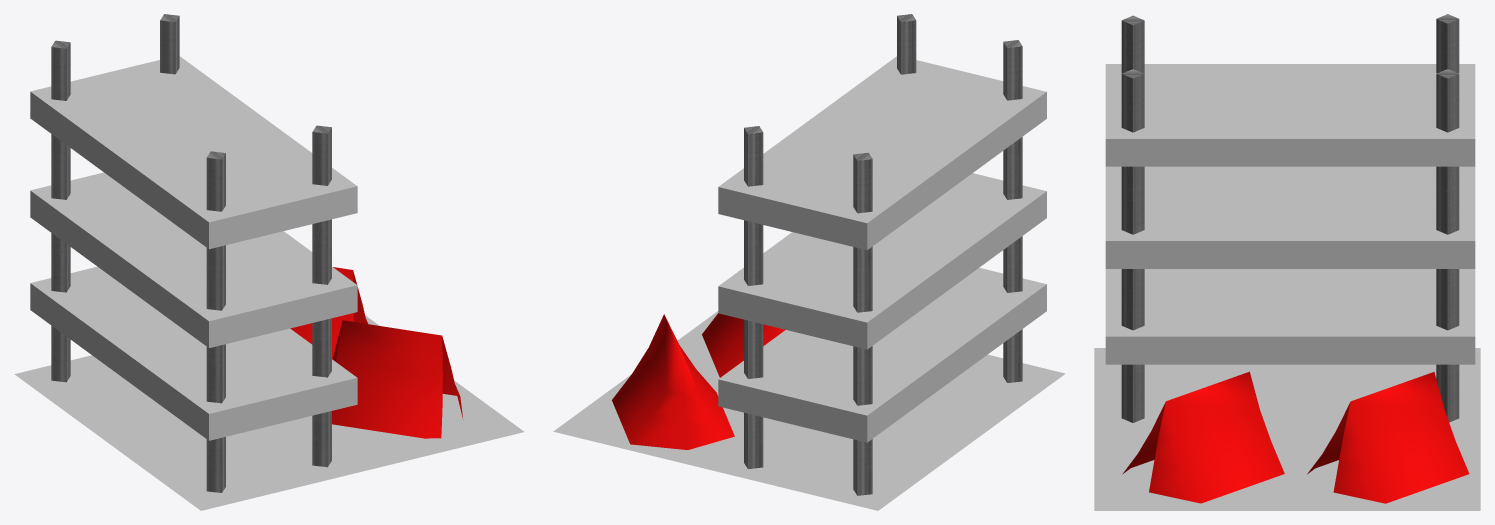
File: barracks.obj
The picture shows the model from 3 angles, left to right: view 1: azimuth 30°, elevation 25°; view 2: azimuth 150°, elevation 25°; view 3: azimuth 270°, elevation 25°; orthographic projection. The views are drawn at different scales.
Bounding box in the file's own units: 2 × 2 × 2.
